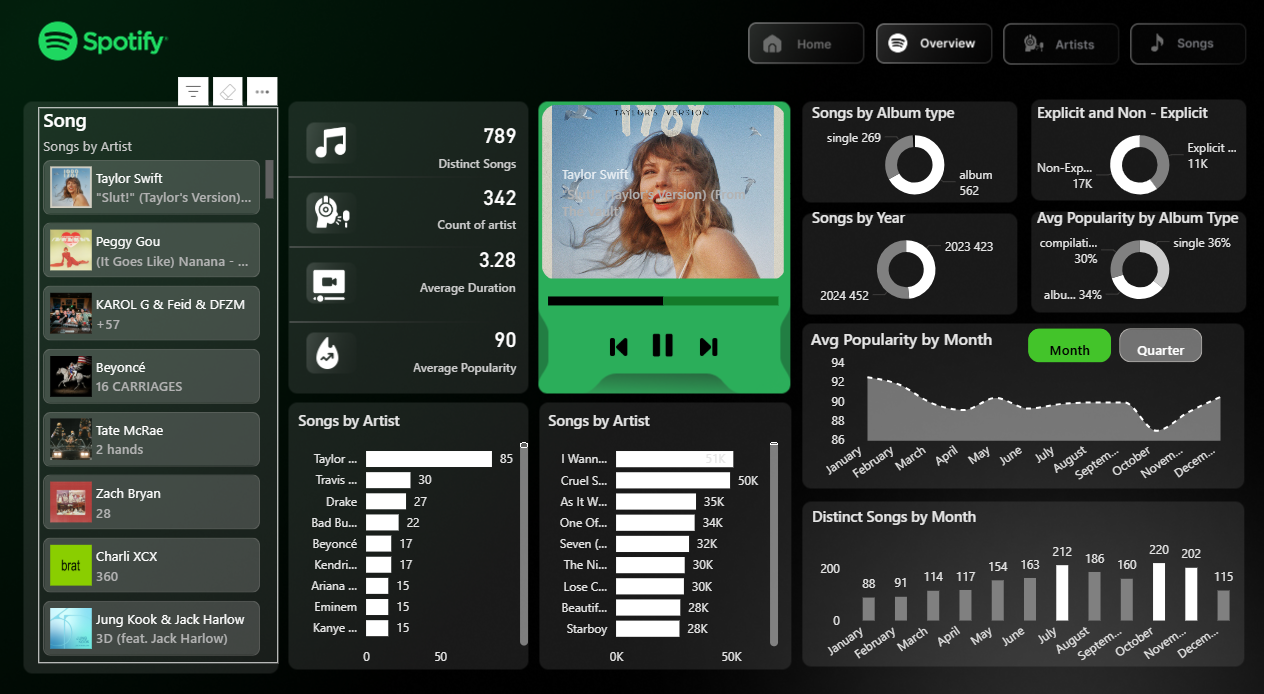

Layout of this report page (visuals, bound fields, positions):
{"tool":"powerbi","page":{"name":"Overview","canvas":[1280,720],"ordinal":1},"visuals":[{"type":"cardVisual","fields":{"Data":["Top-50-World.Distinct Songs"]},"box":[421.2,116.2,120,70],"z":0,"group":"g1"},{"type":"clusteredBarChart","title":"Songs by Artist","fields":{"Y":["Top-50-World.Distinct Songs"],"Category":["Top-50-World.artist"]},"box":[301.2,418.8,240,265],"z":0},{"type":"cardVisual","fields":{"Data":["Count(Top-50-World.artist)"]},"box":[421.2,177.4,120,70],"z":1000,"group":"g1"},{"type":"clusteredBarChart","title":"Songs by Artist","fields":{"Category":["Top-50-World.song"],"Y":["Top-50-World.Total Popularity Sum"]},"box":[551.4,418.6,240,265.7],"z":1000},{"type":"cardVisual","fields":{"Data":["_Measures.Average Duration (mins)"]},"box":[398.5,239.6,142.5,76.2],"z":2000,"group":"g1"},{"type":"stackedAreaChart","title":"Avg Popularity by Month","fields":{"Category":["Top-50-World.date.Variation.Date Hierarchy.Month"],"Y":["_Measures.Average Popularity"]},"box":[814.3,335.7,432.9,165.7],"z":2000},{"type":"cardVisual","fields":{"Data":["_Measures.Average Popularity"]},"box":[385.9,319.6,155,70],"z":3000,"group":"g1"},{"type":"advancedSlicerVisual","fields":{"Values":["slicer option.slicer option"]},"box":[1030.7,332.5,184.1,44.2],"z":3000},{"type":"donutChart","title":"Explicit and Non - Explicit","fields":{"Y":["_Measures.Explicit Songs Count","_Measures.Non-Explicit Songs Count"]},"box":[1040.5,111.7,216,105.5],"z":4000},{"type":"donutChart","title":" Songs by Album type","fields":{"Category":["Top-50-World.album_type"],"Y":["Top-50-World.Distinct Songs"]},"box":[814.7,111.7,216,105.5],"z":5000},{"type":"donutChart","title":"Avg Popularity by Album Type","fields":{"Category":["Top-50-World.album_type"],"Y":["_Measures.Average Popularity"]},"box":[1040,216.2,216.2,105],"z":6000},{"type":"donutChart","title":"Songs by Year","fields":{"Y":["Top-50-World.Distinct Songs"],"Category":["Top-50-World.date.Variation.Date Hierarchy.Year"]},"box":[815,216.2,198.8,105],"z":7000},{"type":"clusteredColumnChart","fields":{"Category":["Top-50-World.date.Variation.Date Hierarchy.Month"],"Y":["Top-50-World.Distinct Songs"]},"box":[815,515,441.2,168.8],"z":8000},{"type":"group","id":"g1","title":"Group 1","box":[385.9,116.2,155.3,273.4],"z":9000},{"type":"image","box":[290,341.4,101.4,42],"z":10000},{"type":"image","box":[285.7,198.6,108,44],"z":11000},{"type":"image","box":[285.7,271.4,101,47],"z":12000},{"type":"image","box":[275.7,131.4,125,40],"z":13000},{"type":"advancedSlicerVisual","title":"Song ","fields":{"Values":["Top-50-World.song"]},"box":[45.7,115.7,240,557.1],"z":14000},{"type":"advancedSlicerVisual","fields":{"Values":["Top-50-World.song"]},"box":[523.9,108,294.5,186.5],"z":15000},{"type":"hundredPercentStackedBarChart","fields":{"Y":["_Measures.Average Popularity","Avg(Top-50-World.popularity)"]},"box":[550.9,263.8,240.5,87.1],"z":16000},{"type":"image","box":[606.1,341.1,40.5,29.4],"z":17000},{"type":"image","box":[695.7,341.1,40.5,29.4],"z":18000},{"type":"image","box":[646.6,331.3,49.1,46.6],"z":19000},{"type":"shape","box":[541.1,108,262.6,294.5],"z":20000},{"type":"actionButton","box":[755.4,30.6,127.1,45.7],"z":21000},{"type":"actionButton","box":[882.6,30.6,127.1,45.7],"z":22000},{"type":"actionButton","box":[1009.7,30.6,127.1,45.7],"z":23000},{"type":"actionButton","box":[1136.9,30.6,127.1,45.7],"z":24000}]}

Visuals, with their boxes in screenshot pixels (x1, y1, x2, y2), scaled from the page's 1280x720 canvas onto the 1264x694 screenshot:
cardVisual - Top-50-World.Distinct Songs: Rect(416, 112, 534, 179)
"Songs by Artist" clusteredBarChart: Rect(297, 404, 534, 659)
cardVisual - Count(Top-50-World.artist): Rect(416, 171, 534, 238)
"Songs by Artist" clusteredBarChart: Rect(545, 403, 782, 660)
cardVisual - _Measures.Average Duration (mins): Rect(394, 231, 534, 304)
"Avg Popularity by Month" stackedAreaChart: Rect(804, 324, 1232, 483)
cardVisual - _Measures.Average Popularity: Rect(381, 308, 534, 376)
advancedSlicerVisual - slicer option.slicer option: Rect(1018, 320, 1200, 363)
"Explicit and Non - Explicit" donutChart: Rect(1027, 108, 1241, 209)
" Songs by Album type" donutChart: Rect(805, 108, 1018, 209)
"Avg Popularity by Album Type" donutChart: Rect(1027, 208, 1240, 310)
"Songs by Year" donutChart: Rect(805, 208, 1001, 310)
clusteredColumnChart - Top-50-World.date.Variation.Date Hierarchy.Month x Top-50-World.Distinct Songs: Rect(805, 496, 1240, 659)
"Group 1" group: Rect(381, 112, 534, 376)
image: Rect(286, 329, 387, 370)
image: Rect(282, 191, 389, 234)
image: Rect(282, 262, 382, 307)
image: Rect(272, 127, 396, 165)
"Song " advancedSlicerVisual: Rect(45, 112, 282, 649)
advancedSlicerVisual - Top-50-World.song: Rect(517, 104, 808, 284)
hundredPercentStackedBarChart - _Measures.Average Popularity x Avg(Top-50-World.popularity): Rect(544, 254, 782, 338)
image: Rect(599, 329, 639, 357)
image: Rect(687, 329, 727, 357)
image: Rect(639, 319, 687, 364)
shape: Rect(534, 104, 794, 388)
actionButton: Rect(746, 29, 871, 74)
actionButton: Rect(872, 29, 997, 74)
actionButton: Rect(997, 29, 1123, 74)
actionButton: Rect(1123, 29, 1248, 74)
